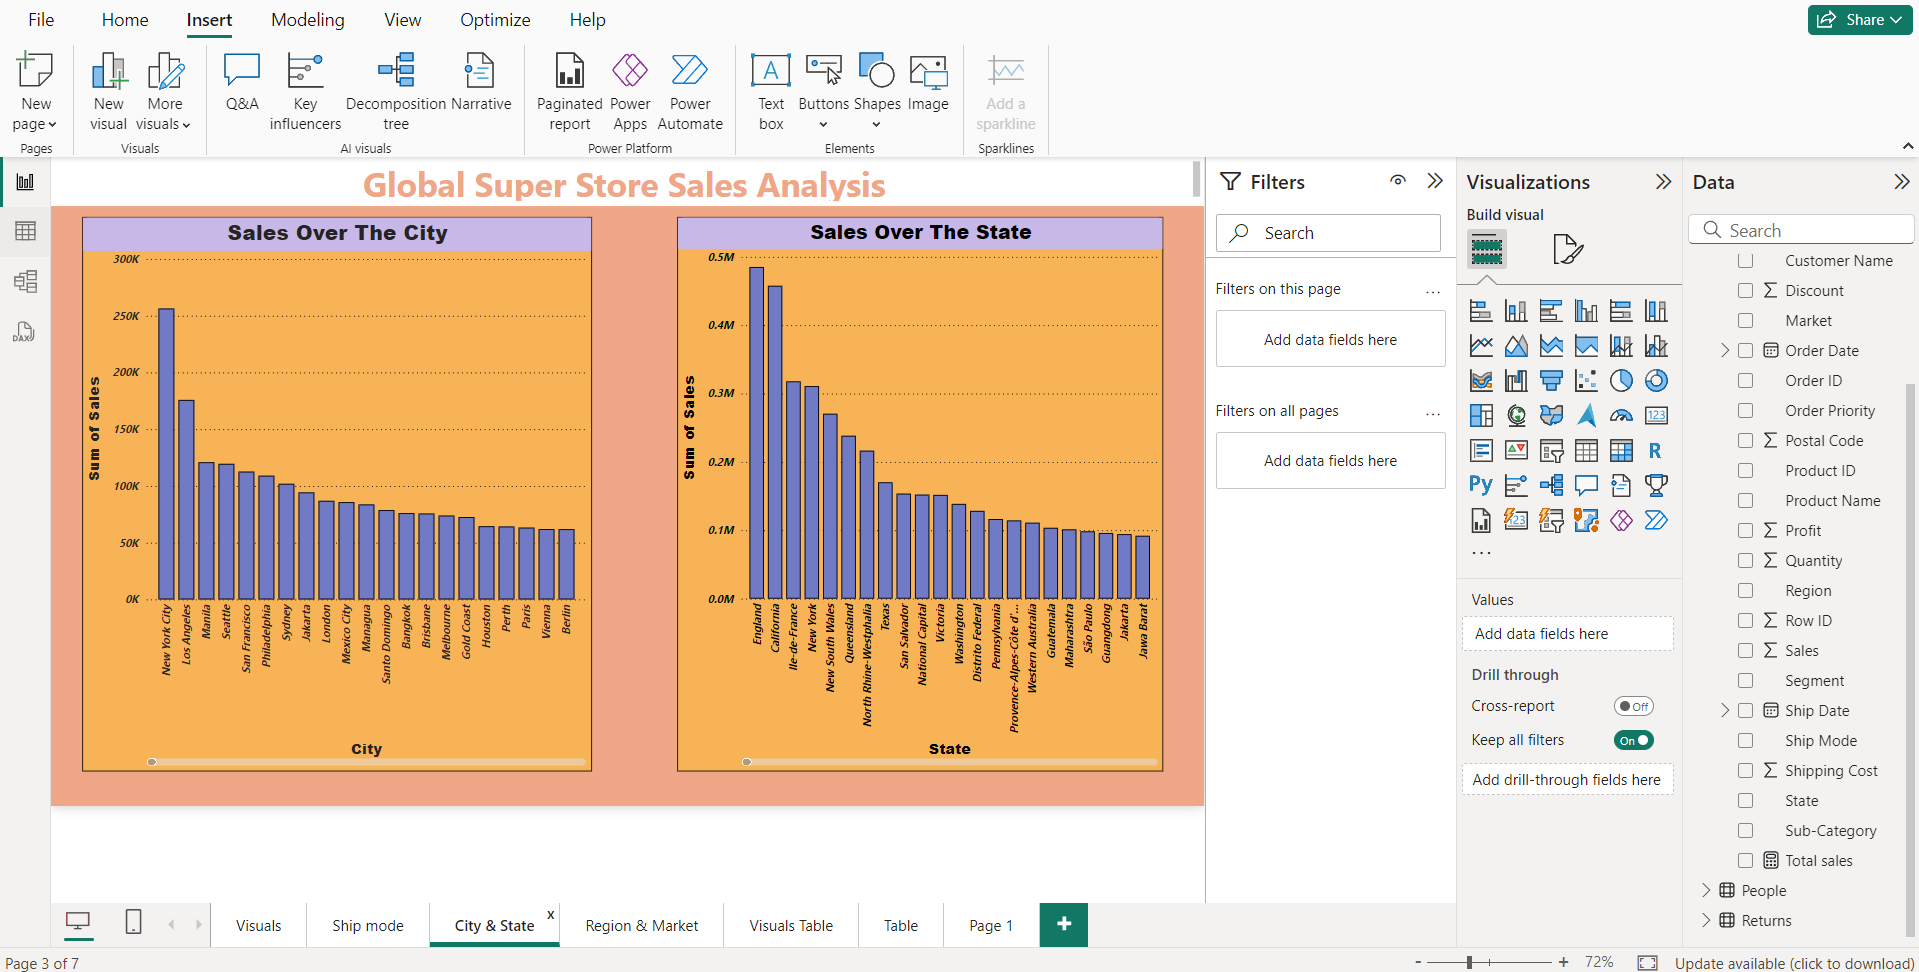

The dashboard page shown, as its layout file describes it:
{"tool":"powerbi","page":{"name":"City & State","canvas":[1280,720],"ordinal":2},"visuals":[{"type":"columnChart","title":"Sales Over The City","fields":{"Category":["Orders.City"],"Y":["Sum(Orders.Sales)"]},"box":[34.6,66.5,565.3,615.2],"z":0},{"type":"columnChart","title":"Sales Over The State","fields":{"Category":["Orders.State"],"Y":["Sum(Orders.Sales)"]},"box":[695.3,66.2,539.4,615.3],"z":1},{"type":"textbox","box":[0,0,1280.3,54.1],"z":2}]}

Visuals, with their boxes on the page's 1280x720 design canvas (x1, y1, x2, y2). These are canvas units, not pixel positions in the 1919x972 screenshot, which may show the page scaled, cropped or inside an application window:
"Sales Over The City" columnChart: select_region(35, 66, 600, 682)
"Sales Over The State" columnChart: select_region(695, 66, 1235, 682)
textbox: select_region(0, 0, 1280, 54)
